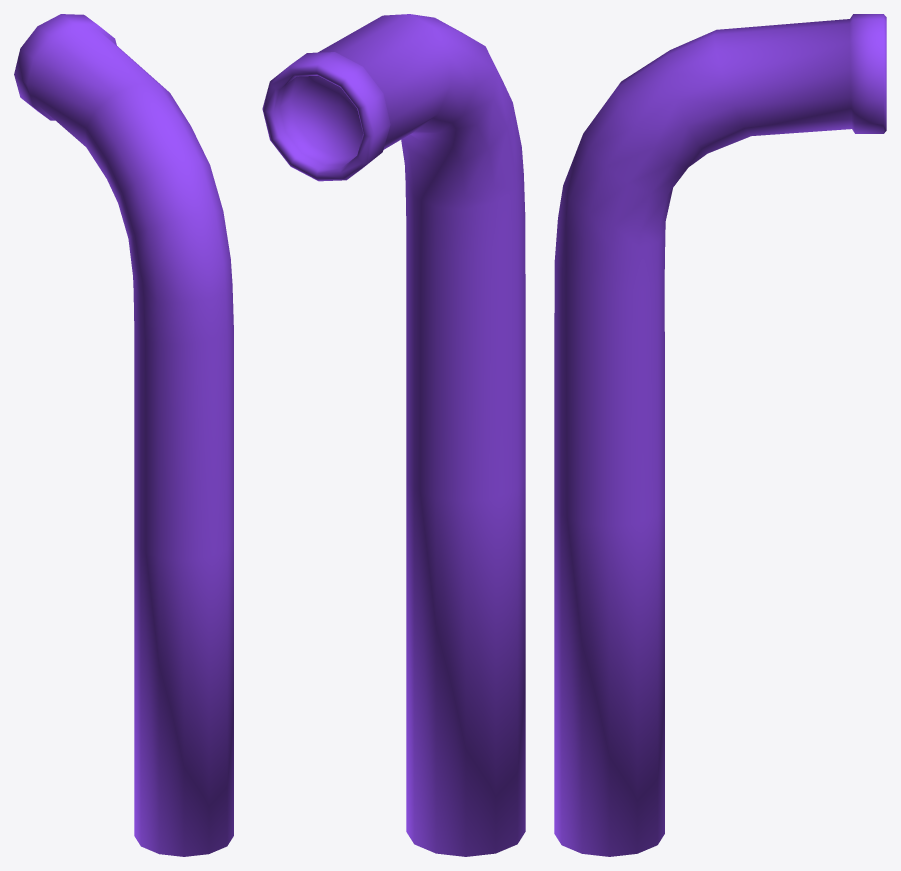
Rendered from pipe.fbx.
The picture shows the model from 3 angles, left to right: view 1: azimuth 30°, elevation 25°; view 2: azimuth 150°, elevation 25°; view 3: azimuth 270°, elevation 25°; orthographic projection. The views are drawn at different scales.
Parts seen in each view (by area): view 1: Vert.003; view 2: Vert.003; view 3: Vert.003.
Boxes of the visible parts, x1,y1,x2,y2 form: Vert.003: [14, 14, 233, 856]; Vert.003: [262, 14, 525, 856]; Vert.003: [554, 14, 886, 856].
Bounding box in the file's own units: 168 × 1253 × 464.
